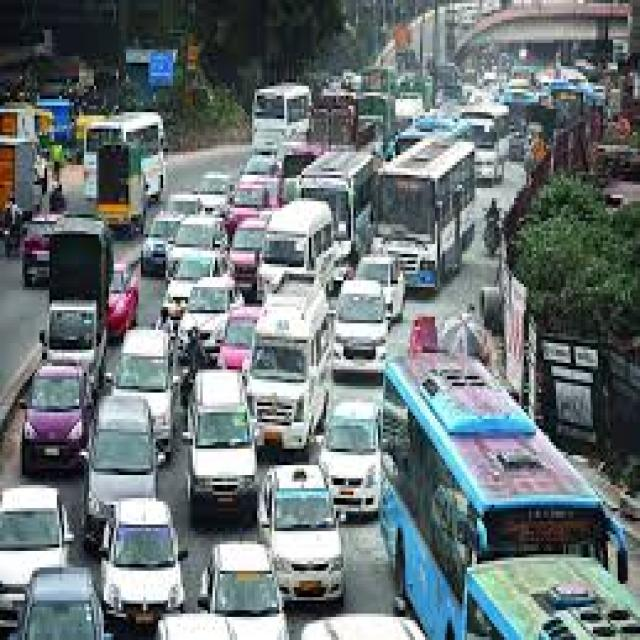bus: (381, 353, 625, 637), (467, 554, 638, 640), (378, 139, 472, 290), (84, 112, 163, 198), (255, 82, 309, 145)
car: (245, 284, 336, 449), (158, 541, 287, 640), (185, 369, 255, 525), (259, 468, 341, 600), (101, 498, 183, 624), (86, 396, 153, 541), (0, 485, 67, 627), (255, 201, 329, 297), (319, 402, 376, 518), (22, 366, 84, 472), (22, 567, 101, 640), (178, 274, 240, 353), (334, 280, 385, 373), (163, 251, 222, 320), (227, 155, 277, 234), (141, 195, 188, 274), (301, 614, 425, 640), (356, 254, 403, 320), (106, 247, 136, 340), (230, 218, 264, 297), (22, 214, 57, 287), (220, 307, 259, 369)
truck: (42, 218, 111, 389)
